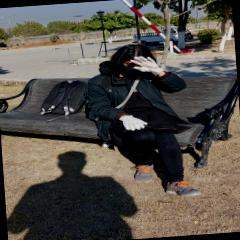gloved: (132, 56, 163, 77), (120, 114, 148, 131)
